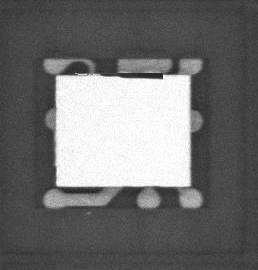DIE_BROKEN: (96, 69, 168, 81)
